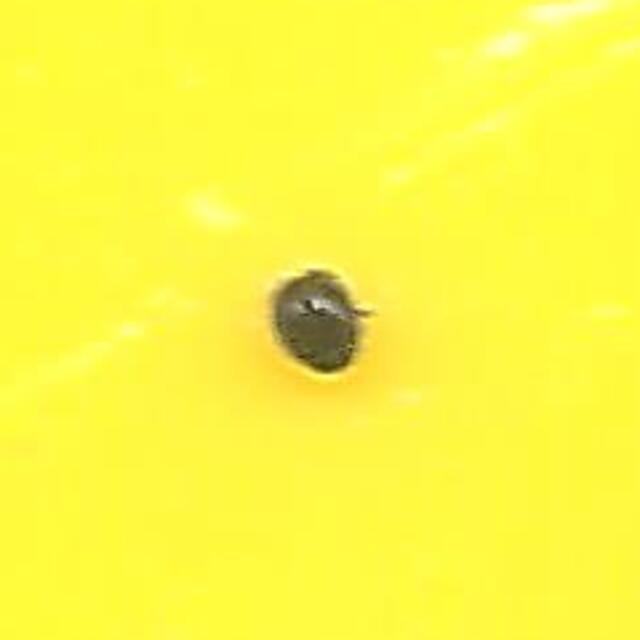Coleoptera: (267, 263, 373, 377)
